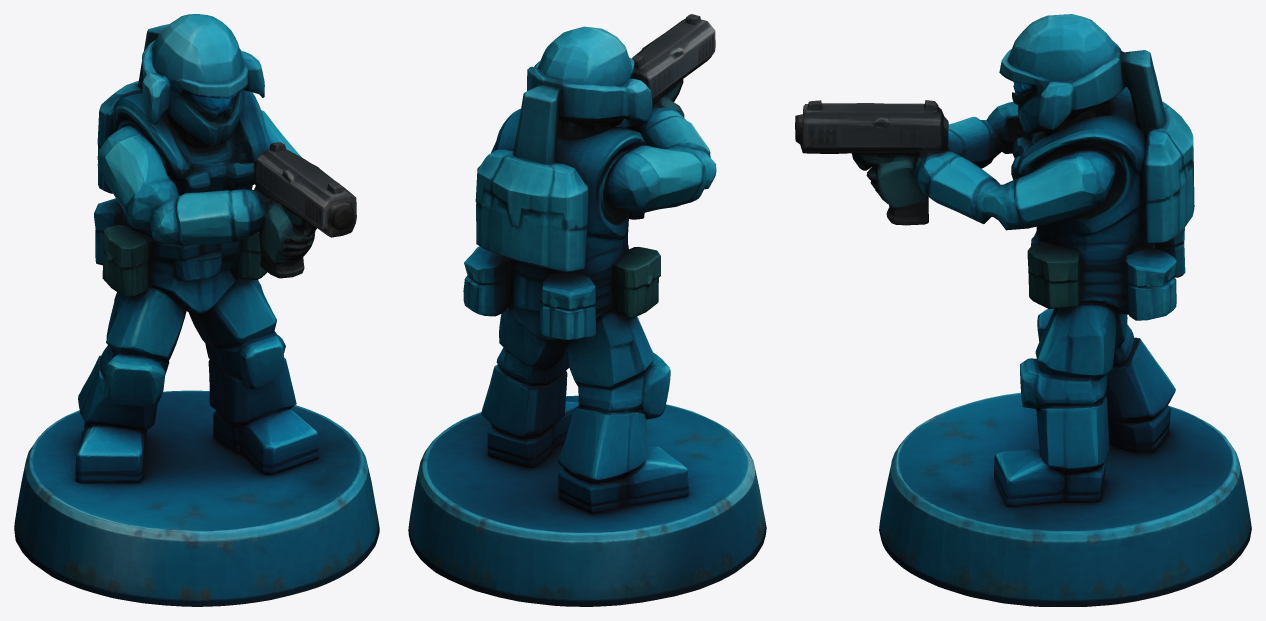
File: player.glb
3 views of the same model, side by side, from view 1: azimuth 30°, elevation 25°; view 2: azimuth 150°, elevation 25°; view 3: azimuth 270°, elevation 25° (orthographic). The views are drawn at different scales.
Parts seen in each view (by area): view 1: world; view 2: world; view 3: world.
Part boxes in pixels (left/top/right/bottom): world: left=14, top=14, right=379, bottom=606; world: left=408, top=14, right=766, bottom=606; world: left=795, top=14, right=1251, bottom=606.
Bounding box in the file's own units: 0.6513 × 1 × 0.808.
Materials: 1 (1 with a texture image).
